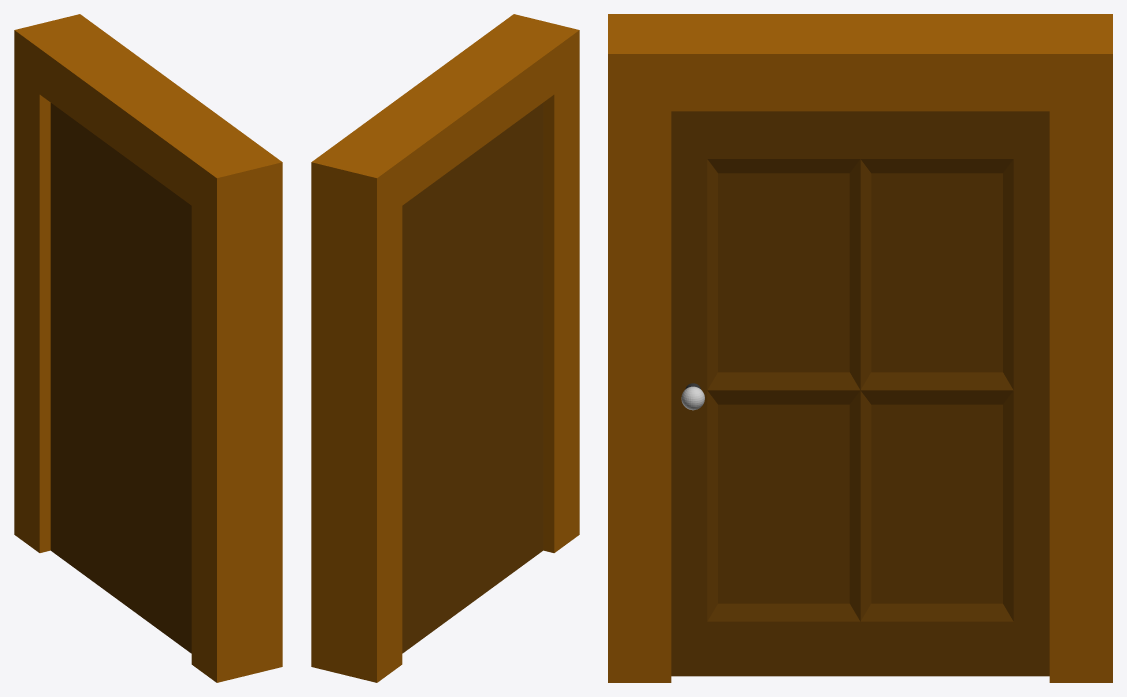
The model's file is Door.glb.
3 views of the same model, side by side, from view 1: azimuth 30°, elevation 25°; view 2: azimuth 150°, elevation 25°; view 3: azimuth 270°, elevation 25° (orthographic). The views are drawn at different scales.
Parts seen in each view (by area): view 1: Frame, Door; view 2: Frame, Door; view 3: Door, Frame.
Part boxes in pixels (x1,y1,x2,y2): Frame: (14, 14, 282, 682); Door: (50, 103, 191, 653); Frame: (311, 14, 579, 682); Door: (402, 103, 543, 653); Door: (671, 111, 1049, 676); Frame: (608, 14, 1112, 682).
Bounding box in the file's own units: 1.74 × 11 × 8.
4 materials, 4 textured.
